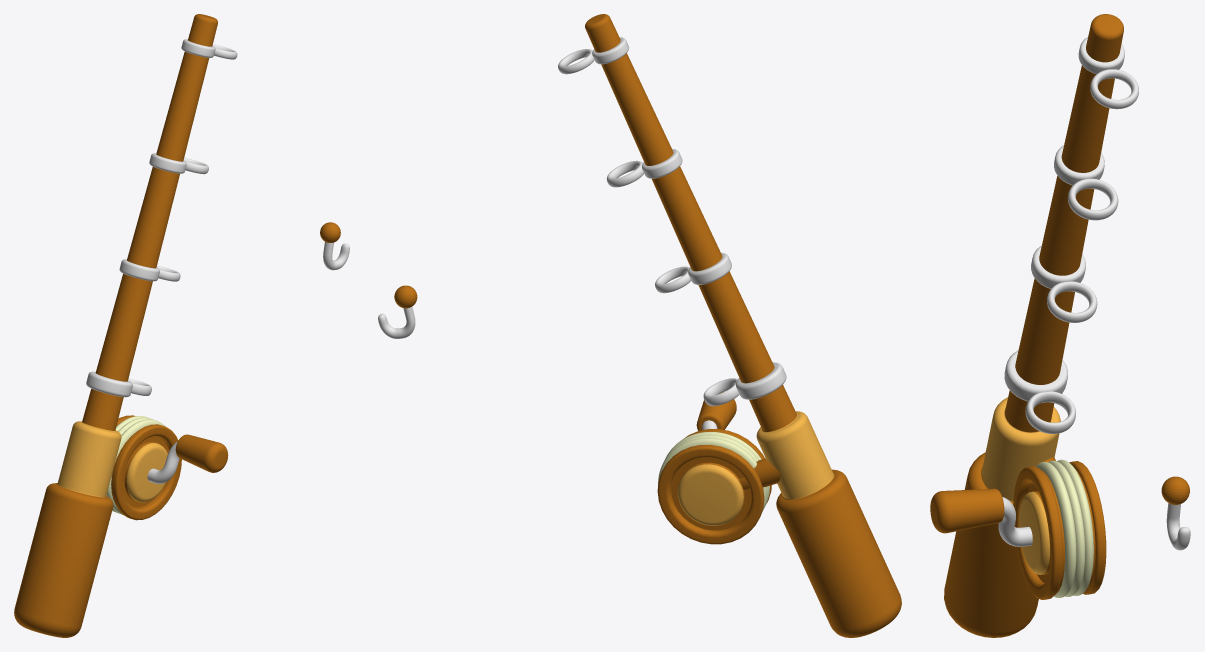
The model's file is FishingRod-Gold.fbx.
3 renders of one model, left to right at view 1: azimuth 30°, elevation 25°; view 2: azimuth 150°, elevation 25°; view 3: azimuth 270°, elevation 25°, orthographic. The views are drawn at different scales.
Parts seen in each view (by area): view 1: Cylinder.004, Cylinder.018, Cylinder.019, Cylinder.013, Plane.010, Cylinder.014, Circle.008, Plane.011, Cylinder.015; view 2: Cylinder.004, Cylinder.018, Cylinder.013, Circle.010, Cylinder.019, Circle; view 3: Cylinder.004, Cylinder.018, Cylinder.019, Circle.008, Circle.009, Circle.010, Circle, Cylinder.013, Circle.006, Circle.005, Circle.007, Plane.010 (+5 smaller).
Part boxes in pixels (left/top/right/bottom): Cylinder.004: left=14, top=14, right=217, bottom=637; Cylinder.018: left=111, top=415, right=181, bottom=520; Cylinder.019: left=175, top=434, right=228, bottom=472; Cylinder.013: left=86, top=371, right=132, bottom=397; Plane.010: left=147, top=441, right=179, bottom=483; Cylinder.014: left=119, top=259, right=159, bottom=281; Circle.008: left=106, top=419, right=165, bottom=515; Plane.011: left=323, top=242, right=349, bottom=270; Cylinder.015: left=149, top=153, right=186, bottom=173; Cylinder.004: left=585, top=14, right=901, bottom=637; Cylinder.018: left=657, top=429, right=771, bottom=544; Cylinder.013: left=736, top=362, right=786, bottom=399; Circle.010: left=658, top=438, right=766, bottom=512; Cylinder.019: left=696, top=392, right=736, bottom=430; Circle: left=703, top=378, right=739, bottom=406; Cylinder.004: left=944, top=14, right=1123, bottom=637; Cylinder.018: left=1013, top=461, right=1106, bottom=599; Cylinder.019: left=930, top=488, right=1004, bottom=533; Circle.008: left=1036, top=462, right=1076, bottom=597; Circle.009: left=1048, top=460, right=1084, bottom=596; Circle.010: left=1057, top=459, right=1093, bottom=595; Circle: left=1025, top=391, right=1075, bottom=433; Cylinder.013: left=1004, top=350, right=1067, bottom=402; Circle.006: left=1068, top=178, right=1118, bottom=220; Circle.005: left=1047, top=281, right=1097, bottom=322; Circle.007: left=1090, top=69, right=1138, bottom=109; Plane.010: left=998, top=497, right=1032, bottom=546.
Size of the model in its own units: 302 by 391 by 125.
